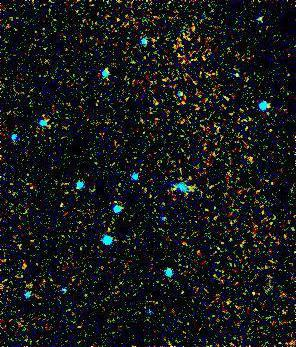star: (234, 283, 264, 313)
